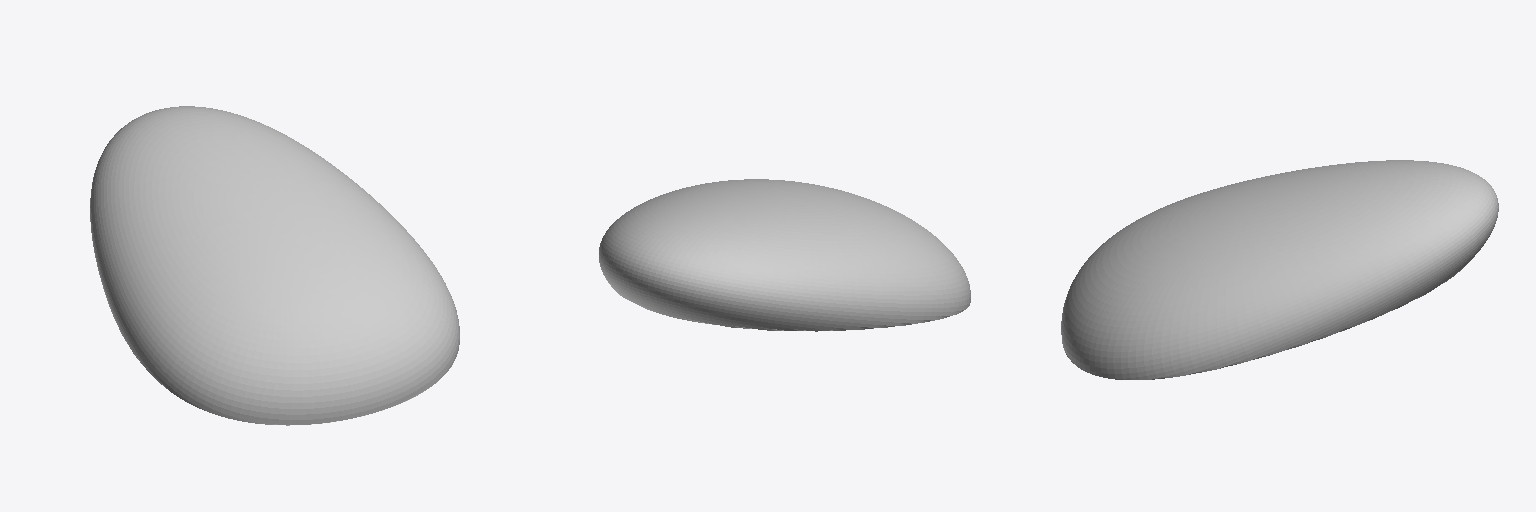
The model's file is SubTool-6-11782861.OBJ.
The picture shows the model from 3 angles: view 1: azimuth 30°, elevation 25°; view 2: azimuth 150°, elevation 25°; view 3: azimuth 270°, elevation 25°; orthographic projection.
Visible parts, largest first — view 1: Group30205; view 2: Group30205; view 3: Group30205.
Boxes of the visible parts, box(x1,y1,x2,y2) form: Group30205: box(90, 106, 459, 425); Group30205: box(599, 179, 970, 331); Group30205: box(1061, 160, 1498, 379).
Bounding box in the file's own units: 0.4518 × 0.2356 × 0.5837.